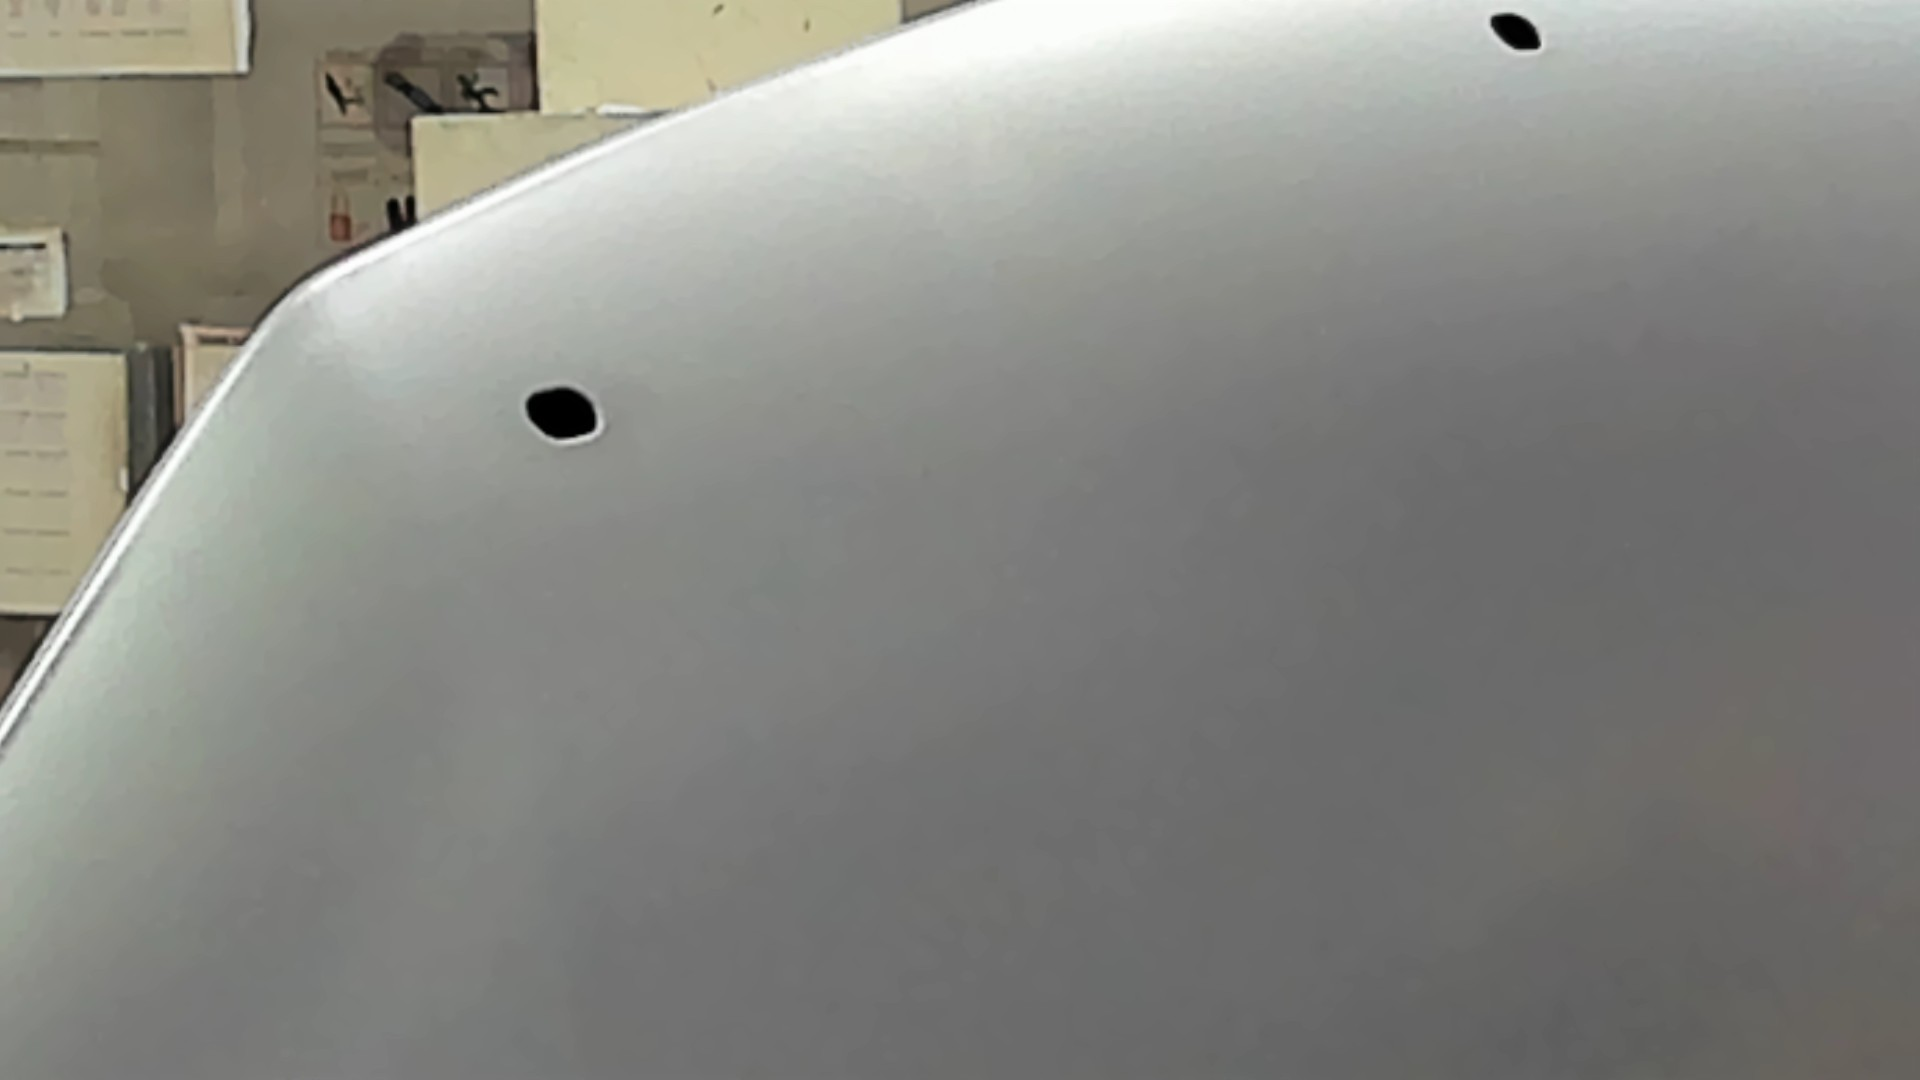amorfo: (516, 378, 607, 444), (1482, 9, 1548, 61)
